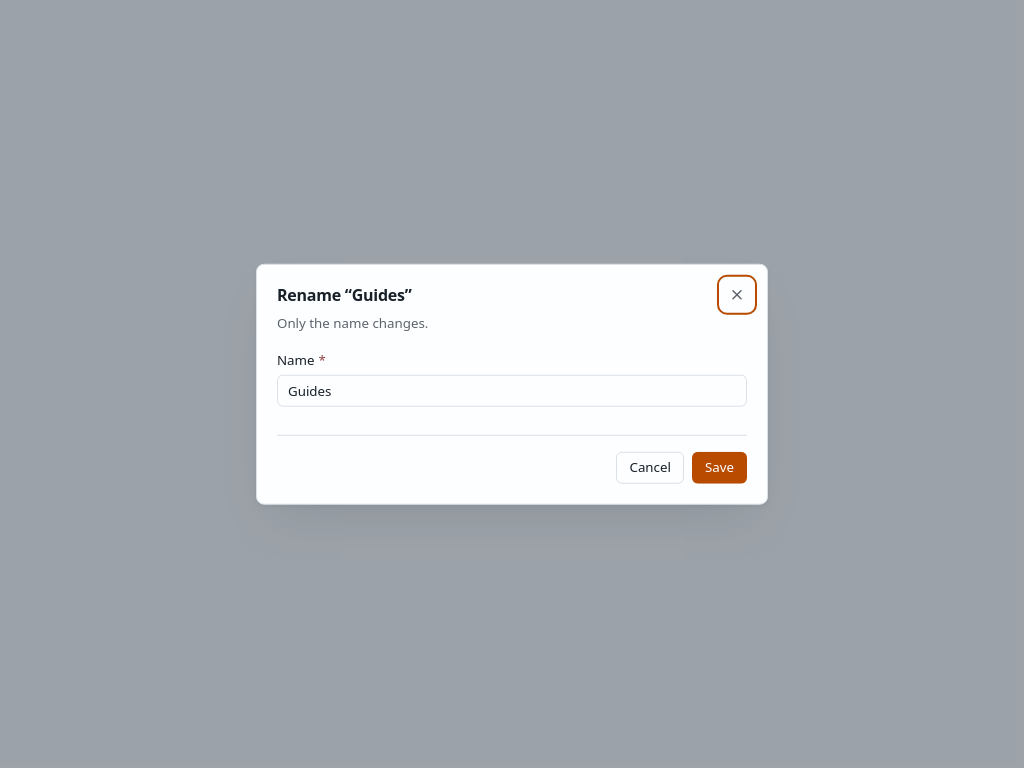
Test: RenameDialog › cancels back to the name it opened with
This screenshot has width=1024, height=768.
Replace the text in the field labelled "Name*" with "Something else" at (512, 390), box [277,374,747,406]
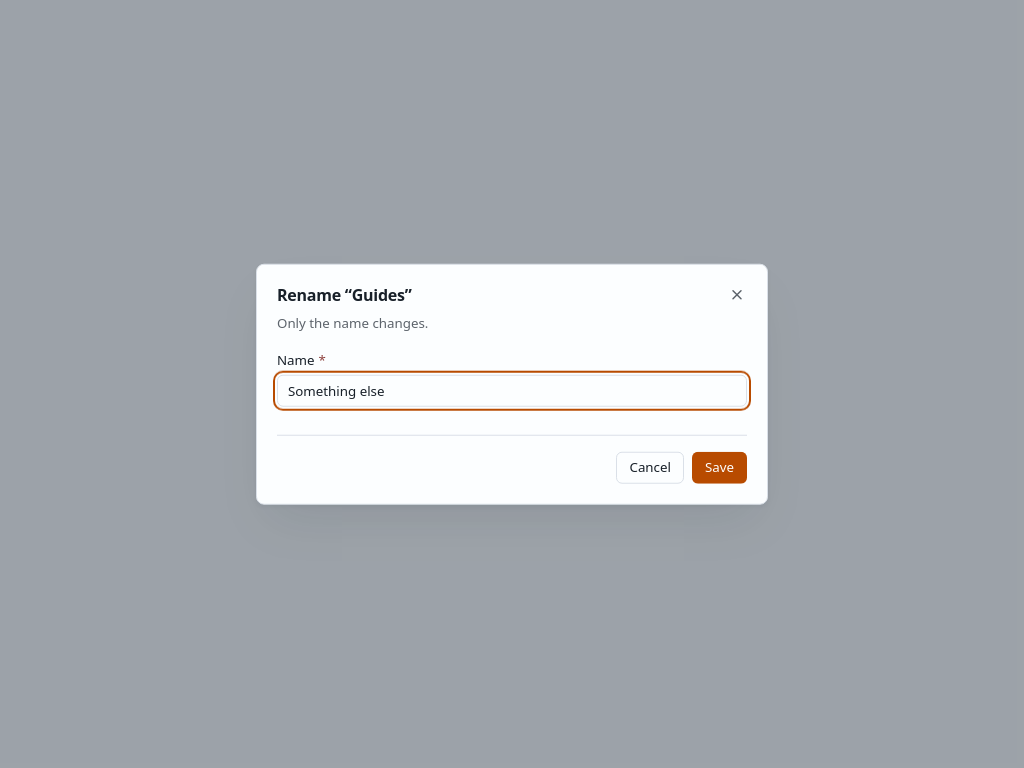
Click the button "Cancel".
click(650, 467)  # box [616,451,684,483]
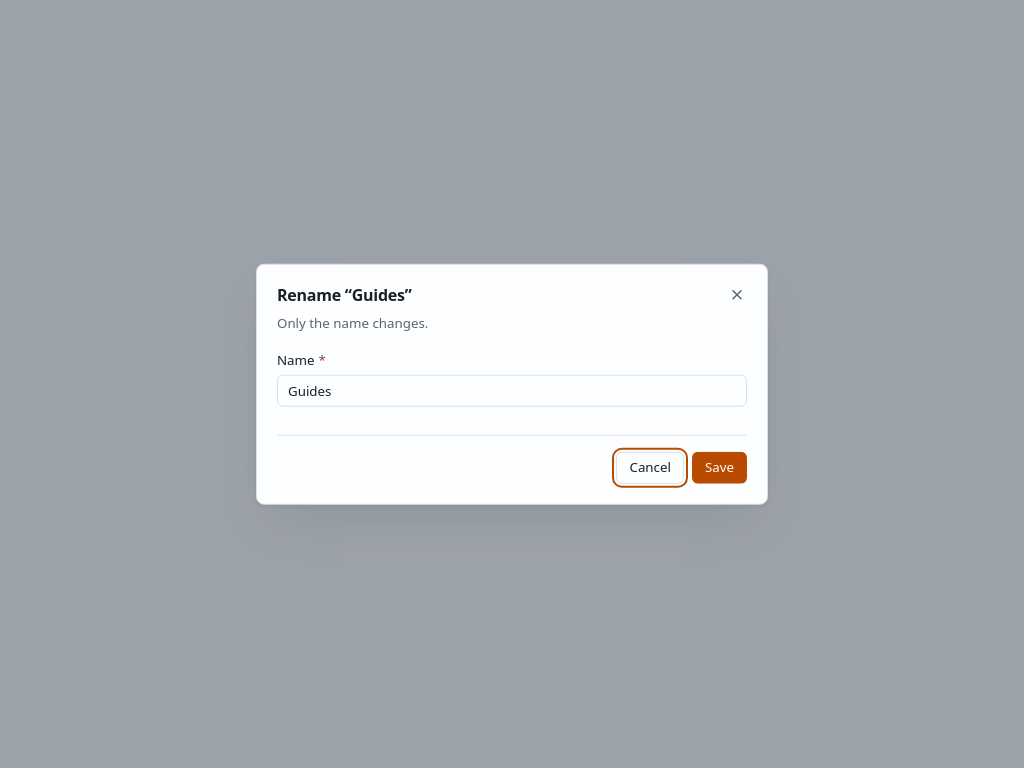
Expected: the field labelled "Name*" holds "Guides", [277,374,747,406]
